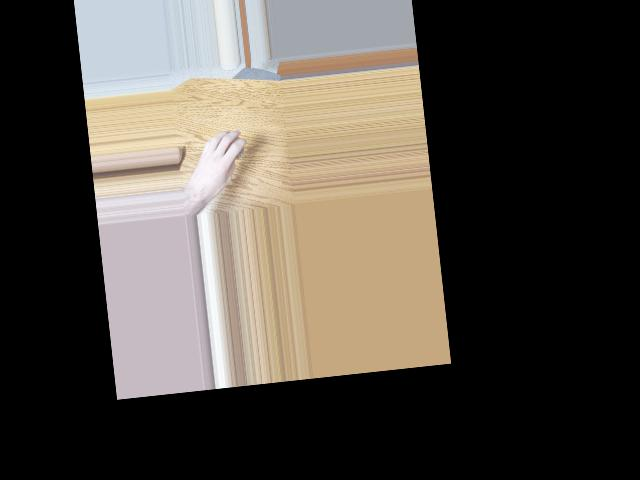onion: (220, 135, 245, 164)
